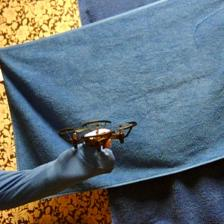drone: (56, 118, 139, 152)
